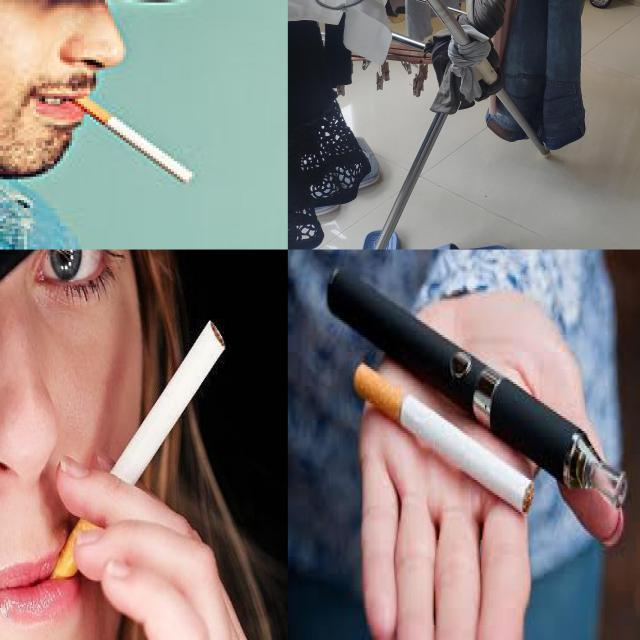smoke: (46, 320, 226, 595), (353, 362, 534, 516), (69, 94, 192, 180)
